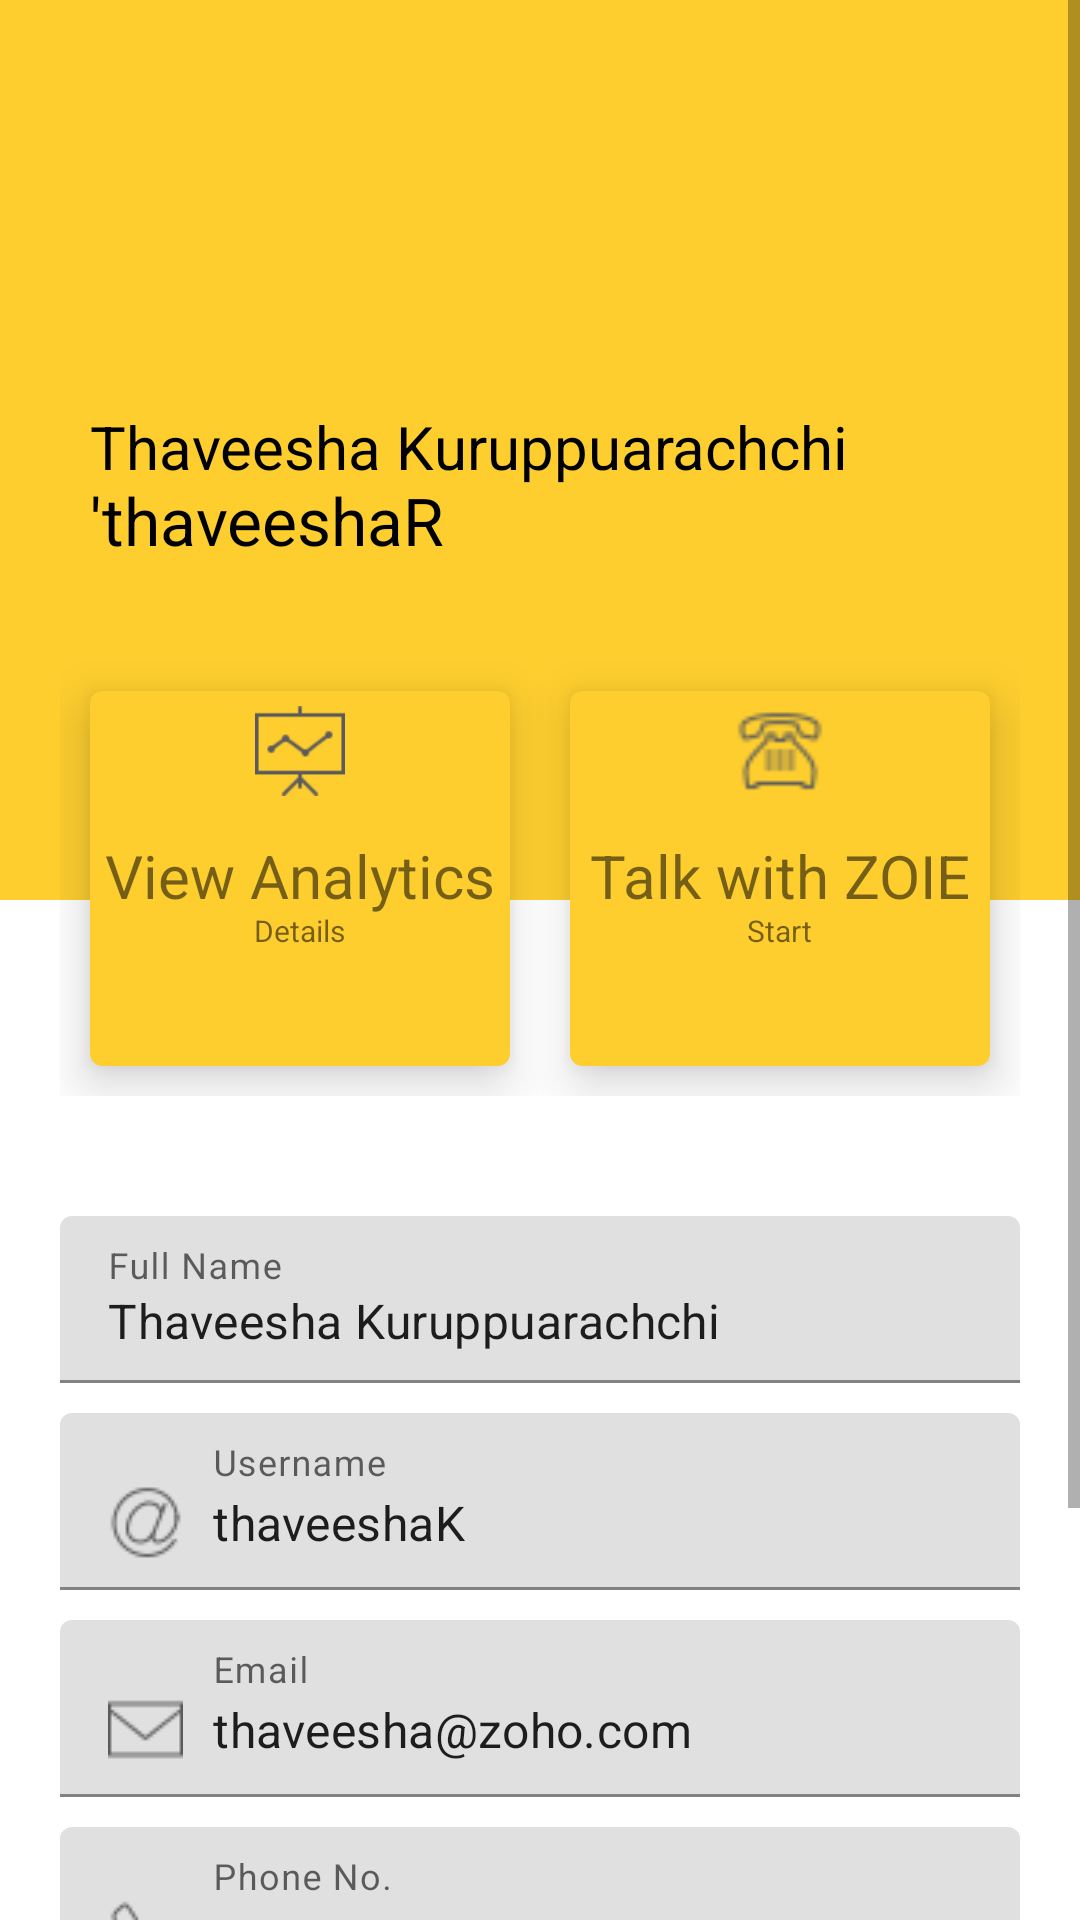

Icons on this 1080*1920 Android screen, each with the point to tap as (x=x, y=y):
statsicon: (x=300, y=751)
telephoneicon: (x=780, y=751)
